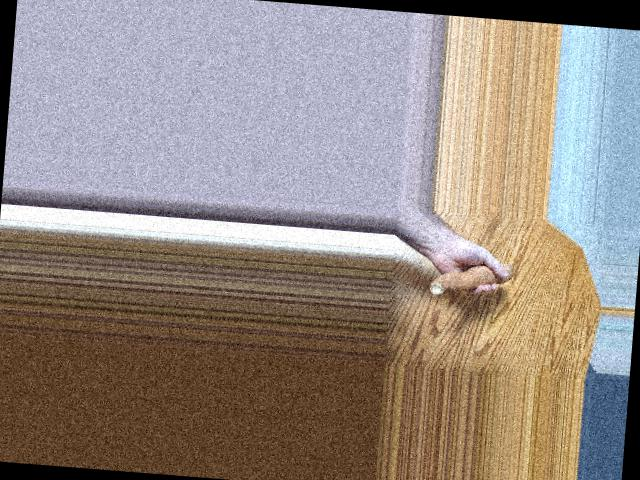sweet_potato: (424, 259, 517, 300)
